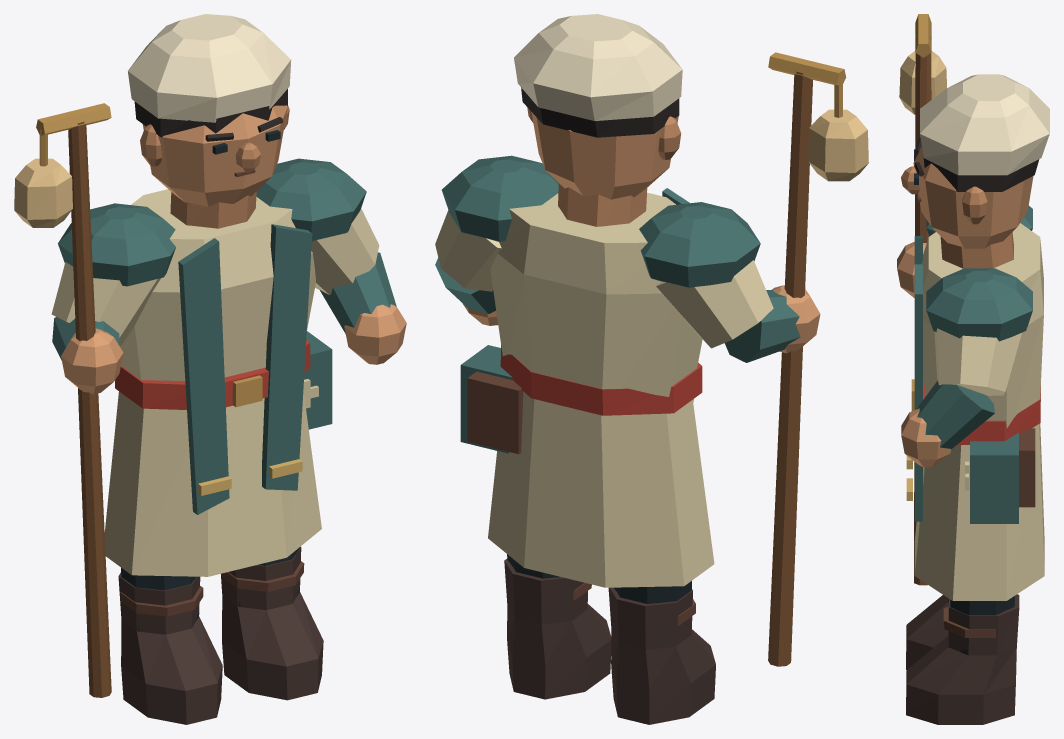
File: hero-priest.glb
3 renders of one model, left to right at view 1: azimuth 30°, elevation 25°; view 2: azimuth 150°, elevation 25°; view 3: azimuth 270°, elevation 25°, orthographic. The views are drawn at different scales.
Parts seen in each view (by area): view 1: body, arm_r, arm_l; view 2: body, arm_r, arm_l; view 3: body, arm_l, arm_r.
Part boxes in pixels (<box>): body: <box>104,14,332,724</box>; arm_r: <box>14,103,175,697</box>; arm_l: <box>256,158,406,364</box>; body: <box>460,14,715,724</box>; arm_r: <box>639,52,868,666</box>; arm_l: <box>435,155,558,325</box>; body: <box>901,74,1049,724</box>; arm_l: <box>901,268,1032,467</box>; arm_r: <box>897,14,1032,585</box>.
Bounding box in the file's own units: 1.1 × 1.78 × 0.4127.
